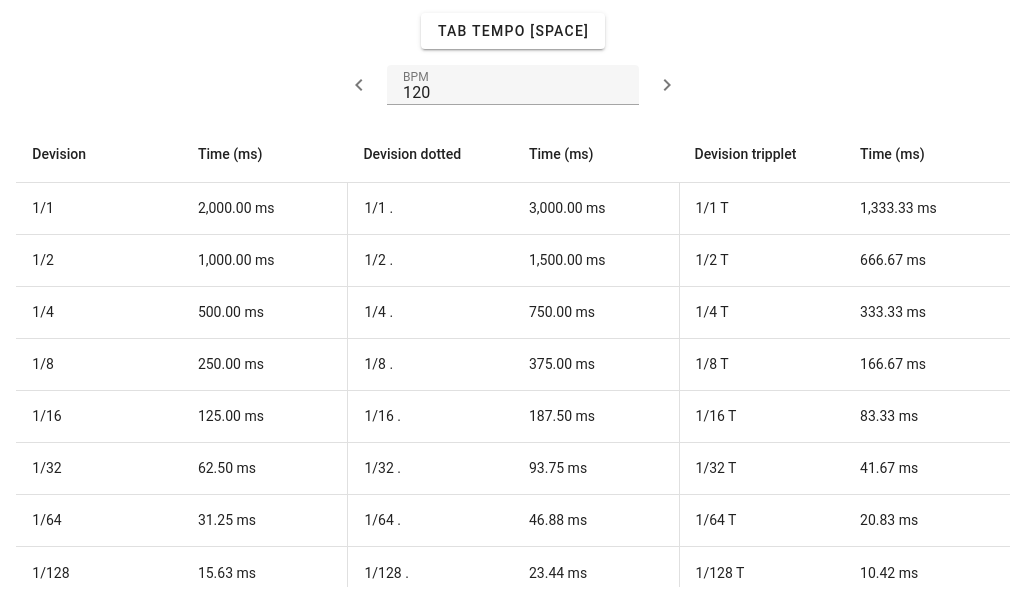
Test: BPM Comonent › decrements bpm
Click the 2nd button at (359,85), box x1=347 y1=73 x2=371 y2=97
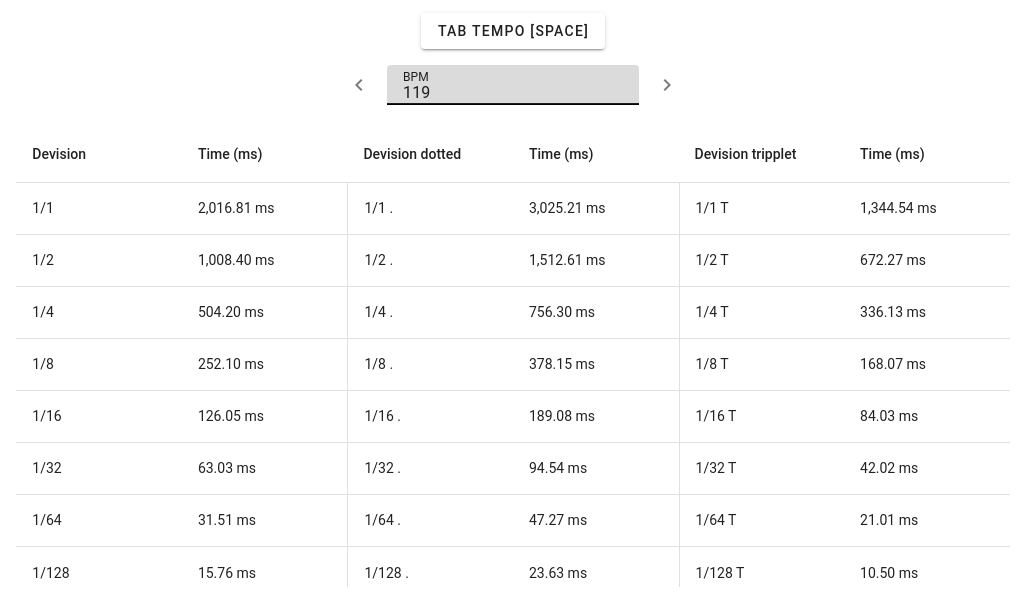
Expected: the number field labelled "BPM" holds "119", x1=387 y1=65 x2=639 y2=105
